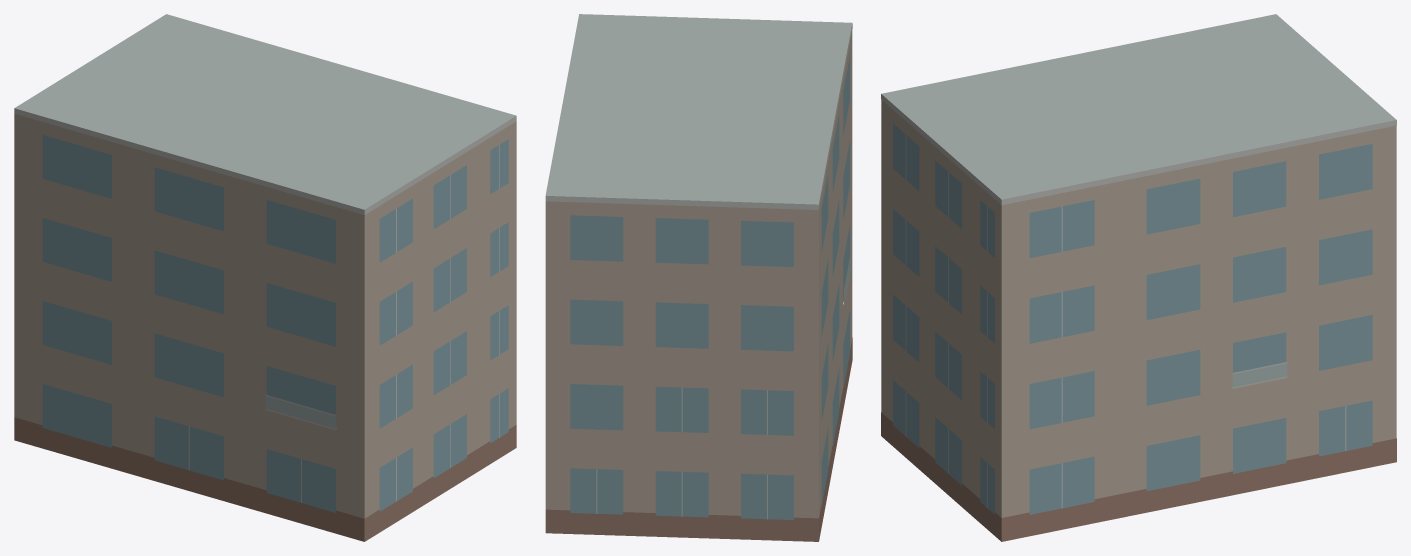
File: survey-upis-32997254.glb
The picture shows the model from 3 angles, left to right: view 1: azimuth 30°, elevation 25°; view 2: azimuth 150°, elevation 25°; view 3: azimuth 270°, elevation 25°; orthographic projection. The views are drawn at different scales.
Visible parts, largest first — view 1: survey-upis-32997254.tmp; view 2: survey-upis-32997254.tmp; view 3: survey-upis-32997254.tmp.
Part boxes in pixels (<box>): survey-upis-32997254.tmp: <box>14,14,516,541</box>; survey-upis-32997254.tmp: <box>545,14,852,541</box>; survey-upis-32997254.tmp: <box>881,14,1396,541</box>.
Bounding box in the file's own units: 17.46 × 15 × 20.49.
